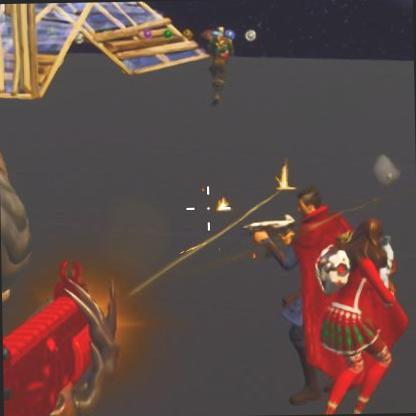person: (278, 183, 342, 394), (342, 223, 406, 412), (204, 28, 242, 104)
